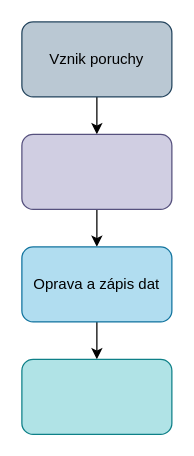
This 194x456 diagram has some shape labels left out. Here are the shapes that lost their labels. From the top down, the centre of each, then its label:
At (96,171): "Založení v systému".
At (96,396): "Uzavření a analýza".
